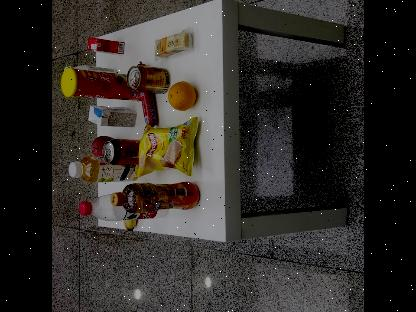Can: (127, 65, 170, 93), (102, 135, 142, 165)
Others: (60, 63, 142, 101), (84, 104, 140, 130), (82, 35, 127, 55)
Plastic Bottle: (112, 181, 201, 214), (79, 191, 158, 222)
